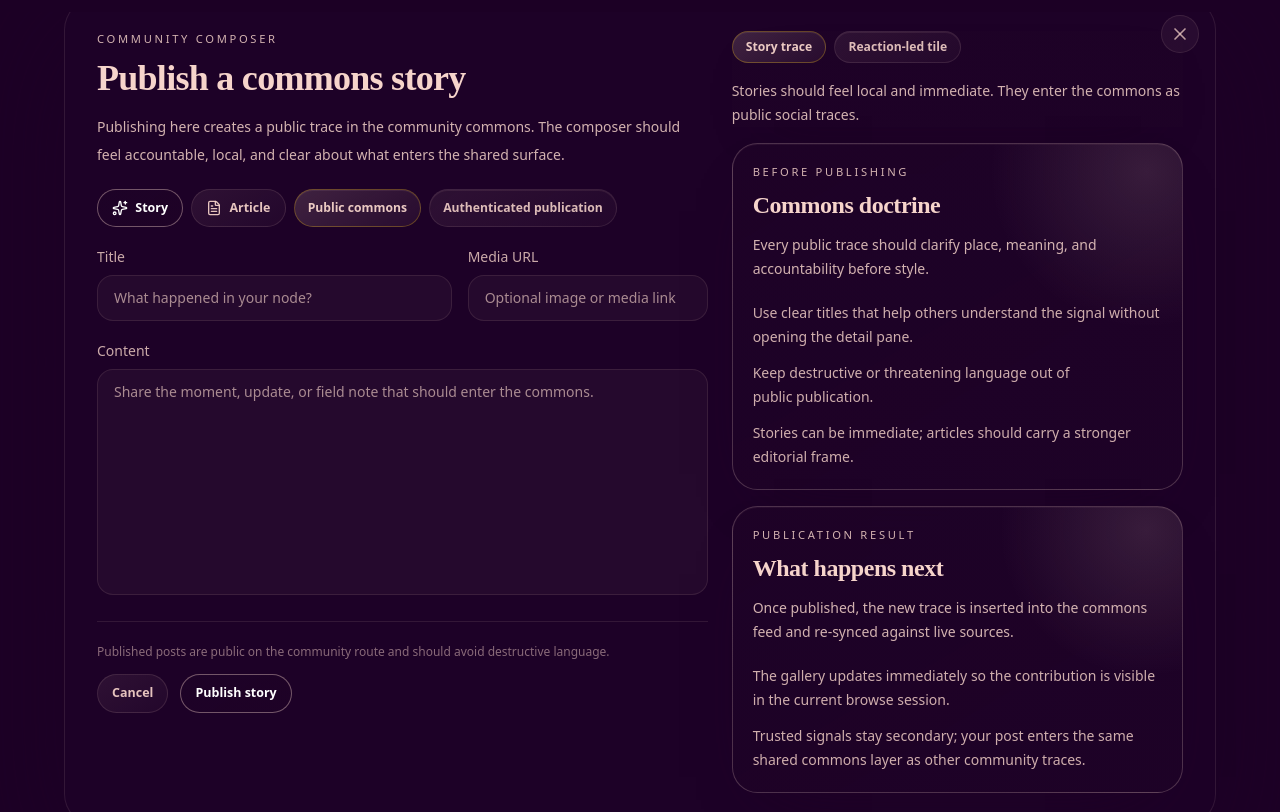
Test case: CommunityComposerModal › blocks empty publication attempts with a clear chamber error
Click the button "Publish story" at {"x": 236, "y": 693}, box x1=180 y1=674 x2=292 y2=712
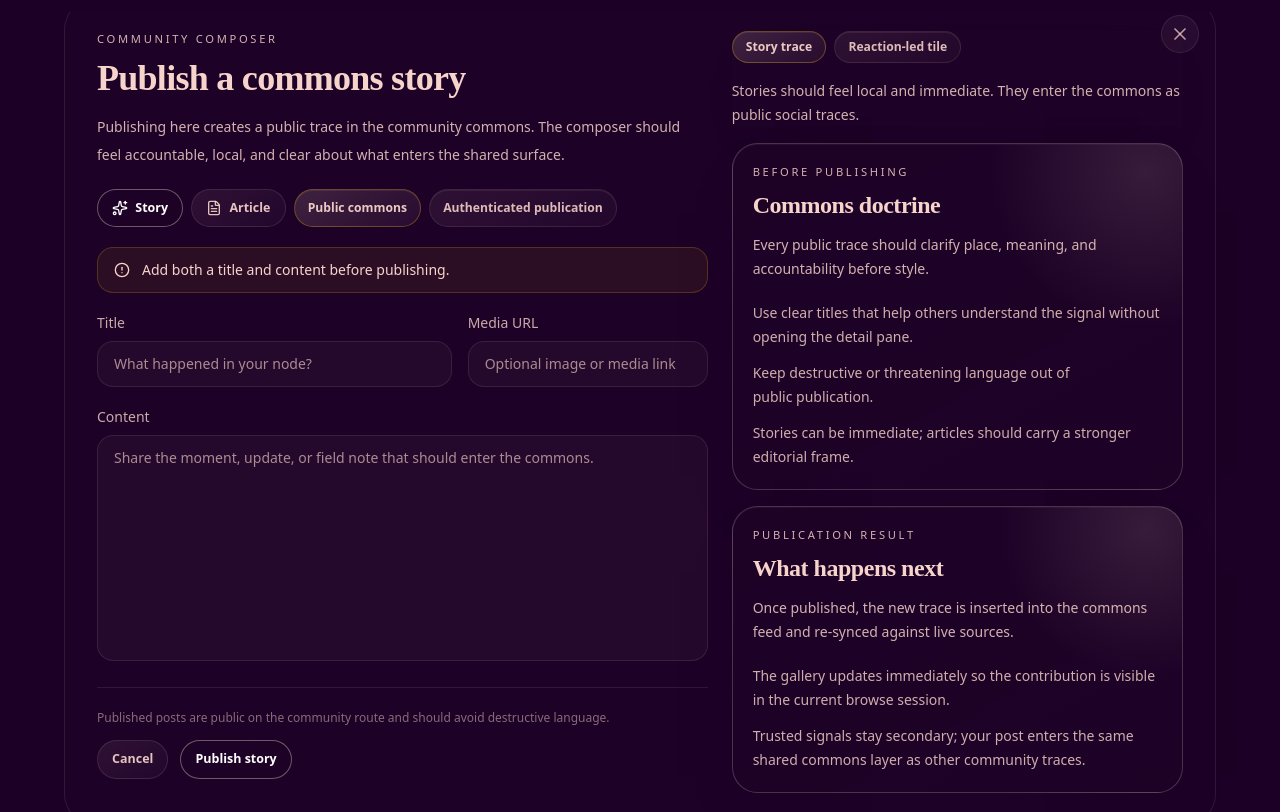
Check: the text "Add both a title and content before publishing." is shown, box x1=142 y1=260 x2=449 y2=280
